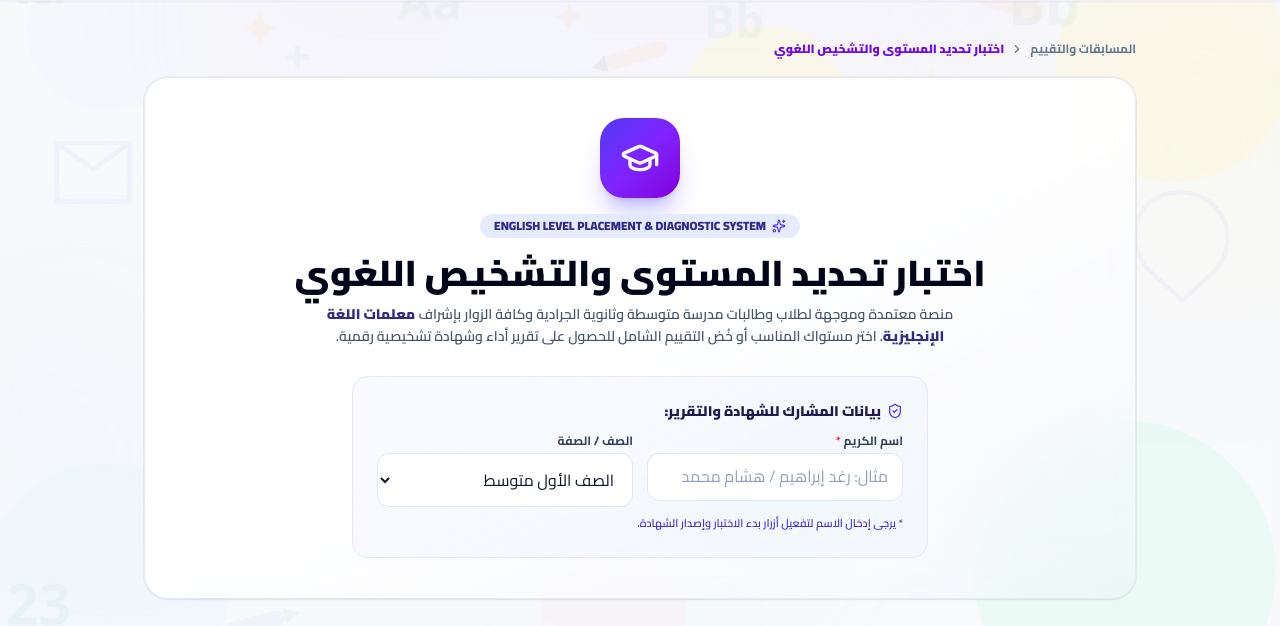
Test: PlacementTestPage & Question Bank › disables starting the test until student enters their name
Type "نورة الهزازي" into the field labelled "اسم الكريم *". click: {"x": 775, "y": 477}
box: [647,453,903,501]
(page scrolled)
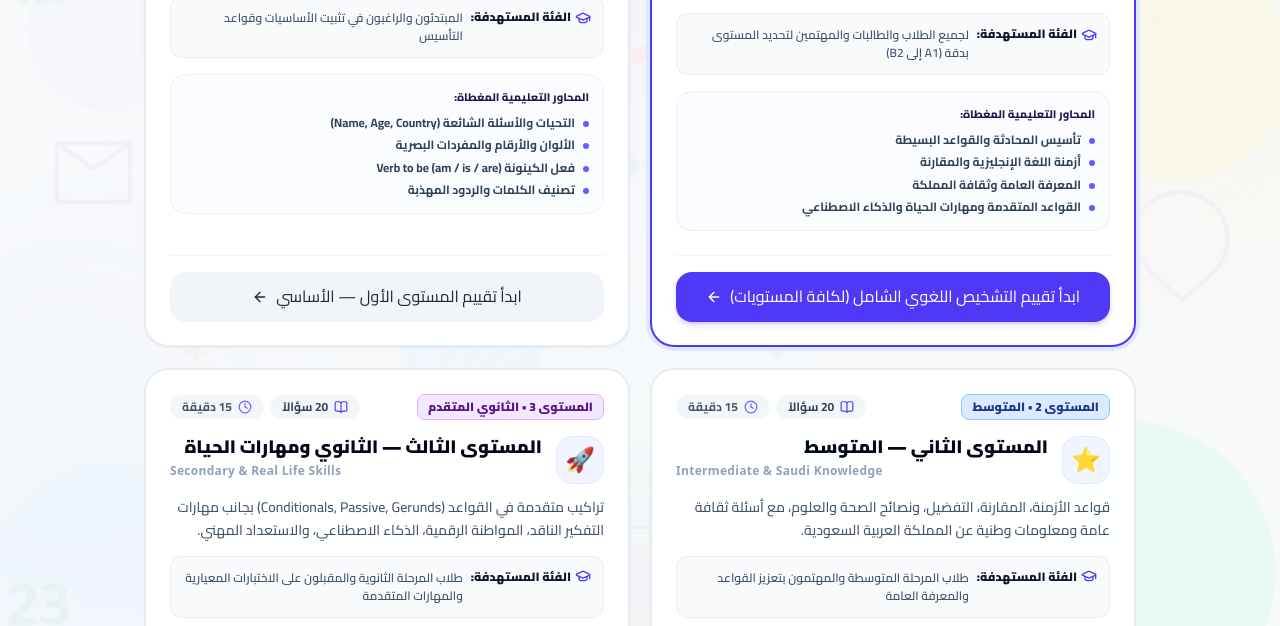
Expected: the button "ابدأ تقييم التشخيص اللغوي الشامل (لكافة المستويات)" is enabled, [676,272,1110,322]
